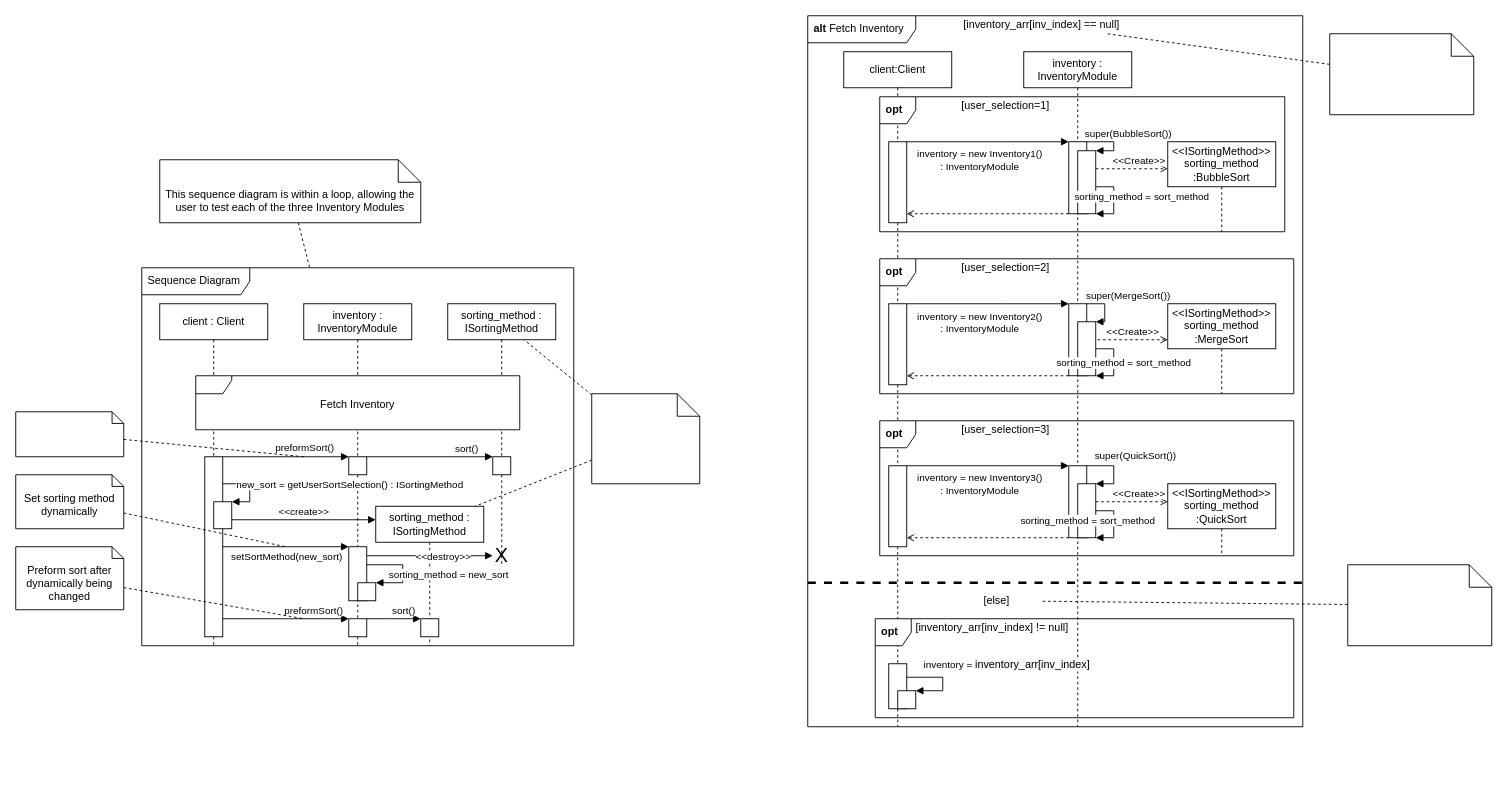
The diagram is 1508 pixels wide and 807 high, and some of its shapes have lost their labels. Here are the shapes that lost their labels. From the top down, the centre of each, then its label:
At point 1401,74: "The inventory module selected by the user has not yet been created".
At point 357,402: "alt".
At point 69,434: "Preform default sorting method".
At point 645,438: "The old sorting behavior is replaced by the new one when dynamically set".
At point 1419,605: "Fetch the existing inventory module from the array".
